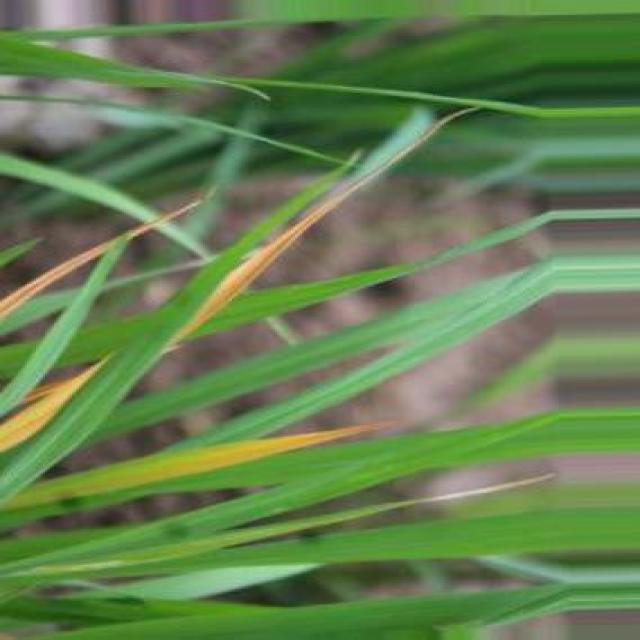Rice Tungro: (169, 109, 473, 352), (8, 427, 369, 511), (0, 198, 201, 318), (2, 359, 106, 452)
